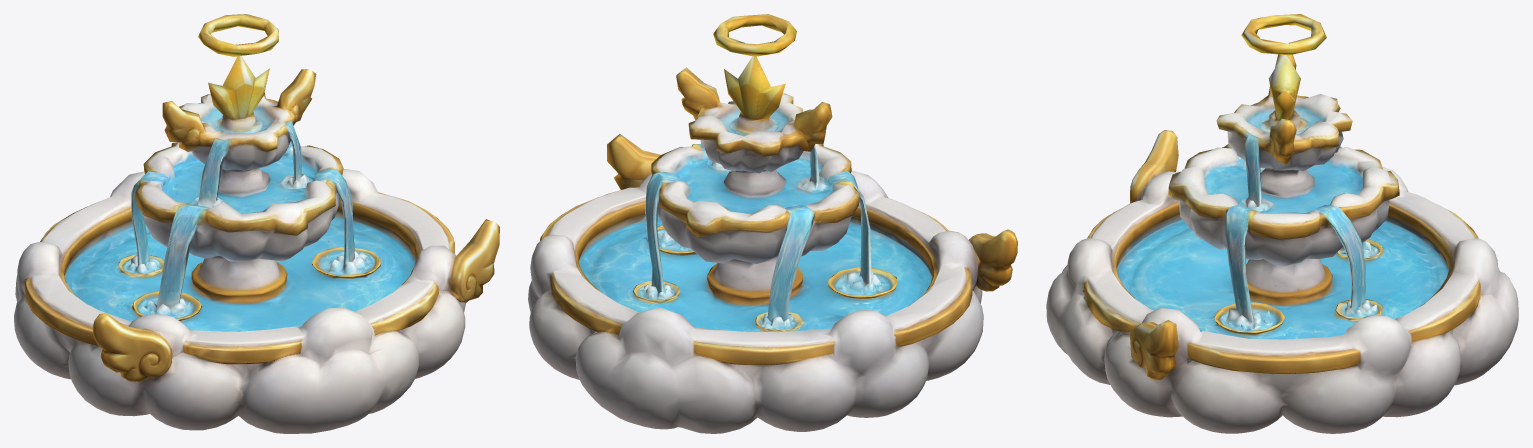
The model's file is Town_Halo_Fountain_R2_fixed.glb.
3 views of the same model, side by side, from view 1: azimuth 30°, elevation 25°; view 2: azimuth 150°, elevation 25°; view 3: azimuth 270°, elevation 25° (orthographic).
Parts seen in each view (by area): view 1: tripo_node_c16dca90-9423-4372-9138-bc8ca7f3ddfd; view 2: tripo_node_c16dca90-9423-4372-9138-bc8ca7f3ddfd; view 3: tripo_node_c16dca90-9423-4372-9138-bc8ca7f3ddfd.
Part boxes in pixels (x1,y1,x2,y2): tripo_node_c16dca90-9423-4372-9138-bc8ca7f3ddfd: (14, 14, 499, 433); tripo_node_c16dca90-9423-4372-9138-bc8ca7f3ddfd: (528, 14, 1017, 433); tripo_node_c16dca90-9423-4372-9138-bc8ca7f3ddfd: (1046, 14, 1518, 433).
Size of the model in its own units: 0.983 by 0.763 by 0.9778.
1 material, 1 textured.
